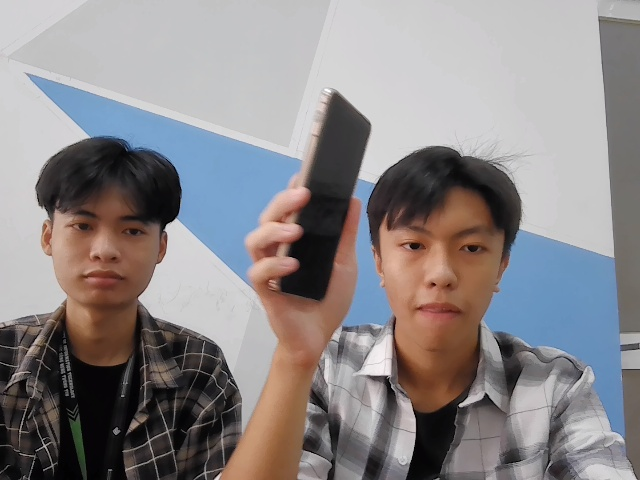human: (370, 146, 522, 356), (35, 134, 182, 312)
phone: (275, 80, 375, 308)
